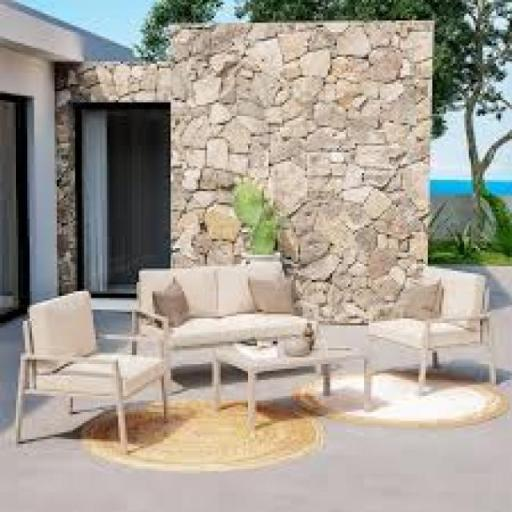sofa: (0, 286, 174, 497), (376, 248, 512, 430)
